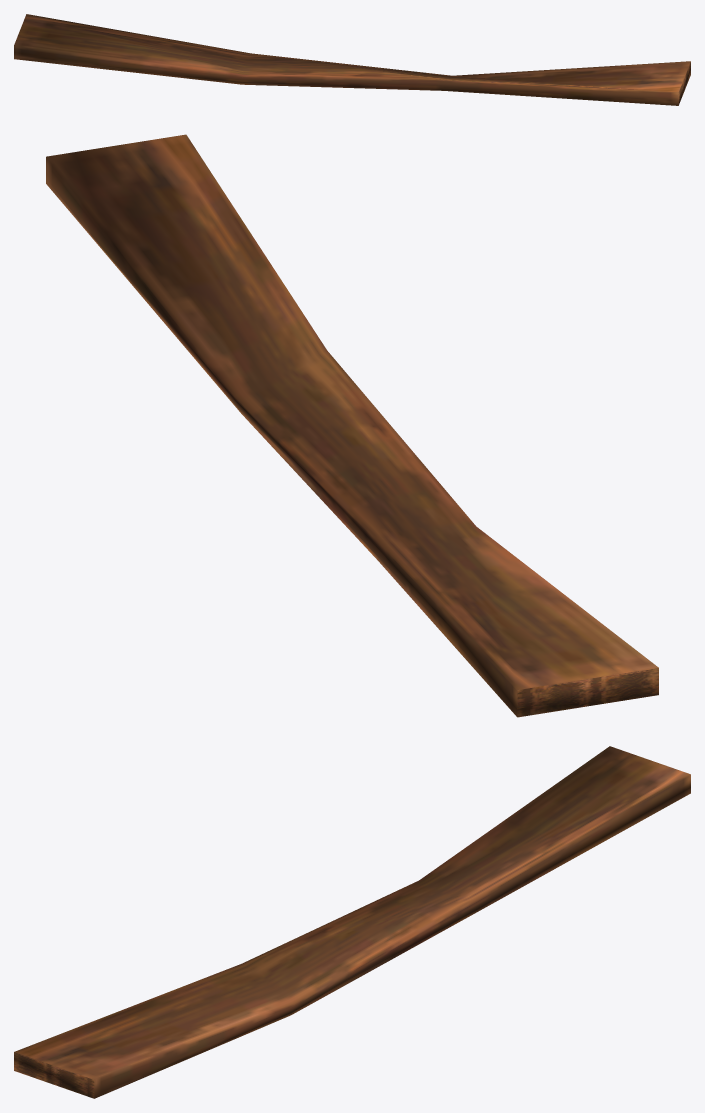
Rendered from SWORDLIGHT20_MAIN CAVERN PLANK.fbx.
3 renders of one model, top to bottom at view 1: azimuth 30°, elevation 25°; view 2: azimuth 150°, elevation 25°; view 3: azimuth 270°, elevation 25°, orthographic. The views are drawn at different scales.
Parts seen in each view (by area): view 1: SWORDLIGHT20_MAIN CAVERN PLANK; view 2: SWORDLIGHT20_MAIN CAVERN PLANK; view 3: SWORDLIGHT20_MAIN CAVERN PLANK.
Boxes of the visible parts, left/top/right/bottom form: SWORDLIGHT20_MAIN CAVERN PLANK: left=14, top=14, right=690, bottom=105; SWORDLIGHT20_MAIN CAVERN PLANK: left=46, top=134, right=658, bottom=717; SWORDLIGHT20_MAIN CAVERN PLANK: left=14, top=746, right=690, bottom=1098.
Bounding box in the file's own units: 32410 × 2250 × 27779.
1 material, 1 textured.
